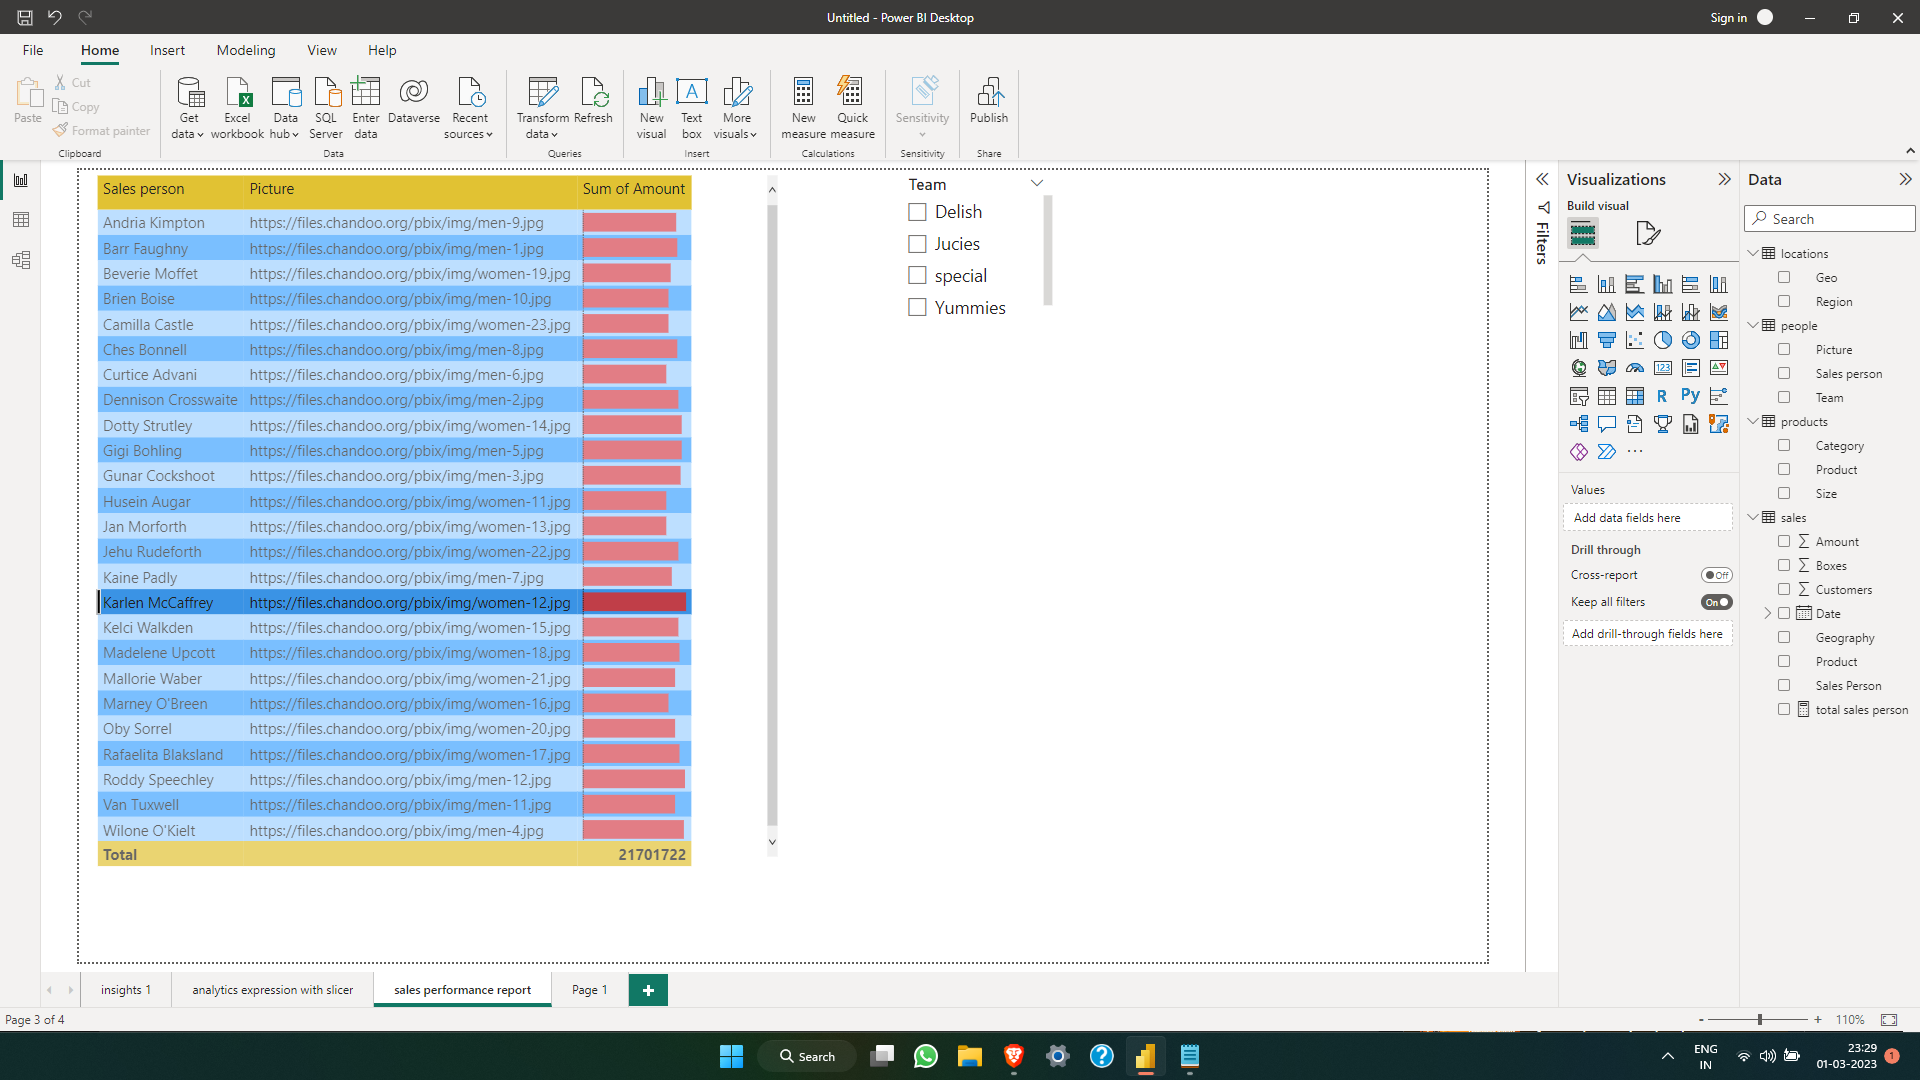

This screenshot's page, from the dashboard's own definition file:
{"tool":"powerbi","page":{"name":"sales performance report","canvas":[1280,720],"ordinal":2},"visuals":[{"type":"tableEx","fields":{"Values":["people.Sales person","people.Picture","Sum(sales.Amount)"]},"box":[0,15.5,349.1,704.5],"z":0},{"type":"slicer","fields":{"Values":["people.Team"]},"box":[349.1,15.5,149.1,140],"z":1000},{"type":"lineChart","fields":{"Category":["sales.Date.Variation.Date Hierarchy.Year","sales.Date.Variation.Date Hierarchy.Month"],"Y":["Sum(sales.Customers)"],"Y2":["Sum(sales.Amount)"],"Rows":["people.Team"]},"box":[359.1,155.5,920.9,564.5],"z":1001},{"type":"image","box":[498,5,782,150],"z":1002}]}

Visuals, with their boxes on the page's 1280x720 design canvas (x1, y1, x2, y2). These are canvas units, not pixel positions in the 1920x1080 screenshot, which may show the page scaled, cropped or inside an application window:
tableEx - people.Sales person x people.Picture: 0/16/349/720
slicer - people.Team: 349/16/498/156
lineChart - sales.Date.Variation.Date Hierarchy.Year x sales.Date.Variation.Date Hierarchy.Month: 359/156/1280/720
image: 498/5/1280/155
